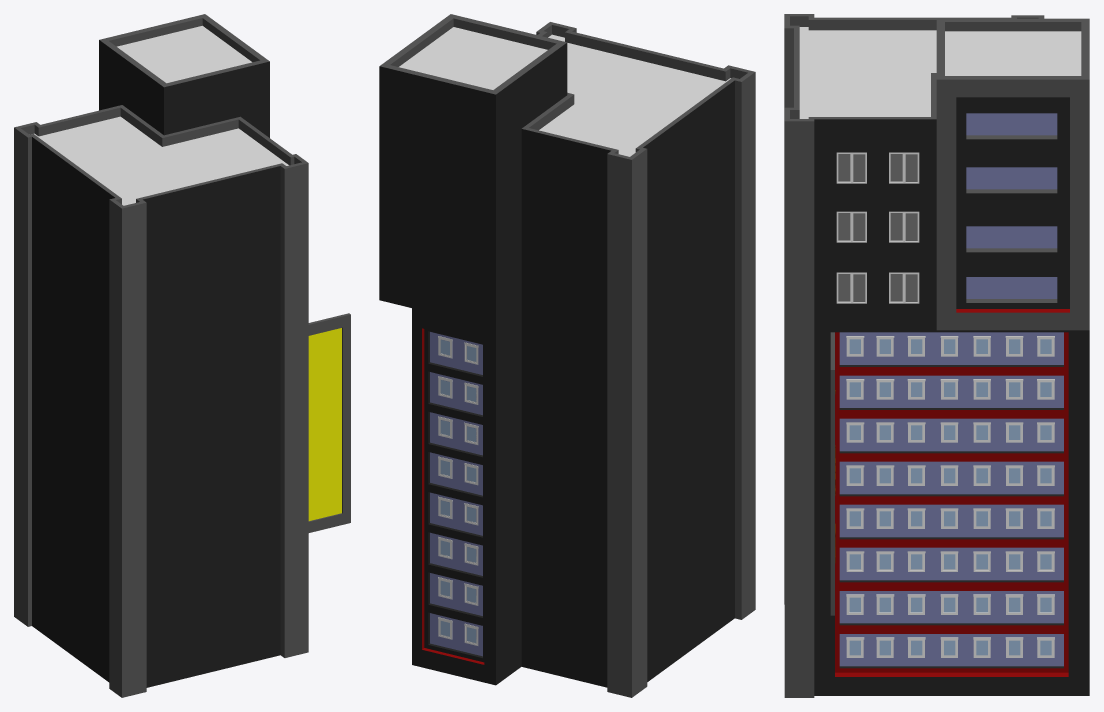
File: Punk4.fbx
3 renders of one model, left to right at view 1: azimuth 30°, elevation 25°; view 2: azimuth 150°, elevation 25°; view 3: azimuth 270°, elevation 25°, orthographic. The views are drawn at different scales.
Visible parts, largest first — view 1: Group7, Group1, Group3, Group4, Group5, Group8, Group6, Group2; view 2: Group1, Group7, Group3, Group4, Group5, Group8, Group6; view 3: Group1, Group7, Group3, Group4, Group5, Group8, Group6, Group2.
Part boxes in pixels (left/top/right/bottom): Group7: left=14, top=14, right=308, bottom=274; Group1: left=14, top=455, right=308, bottom=697; Group3: left=14, top=194, right=308, bottom=389; Group4: left=14, top=345, right=308, bottom=462; Group5: left=14, top=381, right=308, bottom=498; Group8: left=14, top=418, right=308, bottom=535; Group6: left=14, top=308, right=308, bottom=425; Group2: left=308, top=313, right=350, bottom=532; Group1: left=412, top=431, right=755, bottom=697; Group7: left=379, top=14, right=755, bottom=232; Group3: left=379, top=145, right=755, bottom=358; Group4: left=412, top=311, right=755, bottom=439; Group5: left=412, top=351, right=755, bottom=479; Group8: left=412, top=391, right=755, bottom=519; Group6: left=412, top=271, right=755, bottom=398; Group1: left=784, top=414, right=1089, bottom=697; Group7: left=784, top=14, right=1089, bottom=214; Group3: left=784, top=106, right=1089, bottom=334; Group4: left=784, top=284, right=1089, bottom=420; Group5: left=784, top=328, right=1089, bottom=463; Group8: left=784, top=371, right=1089, bottom=506; Group6: left=784, top=241, right=1089, bottom=377; Group2: left=830, top=332, right=835, bottom=615.
Size of the model in its own units: 2166 by 4474 by 1953.
